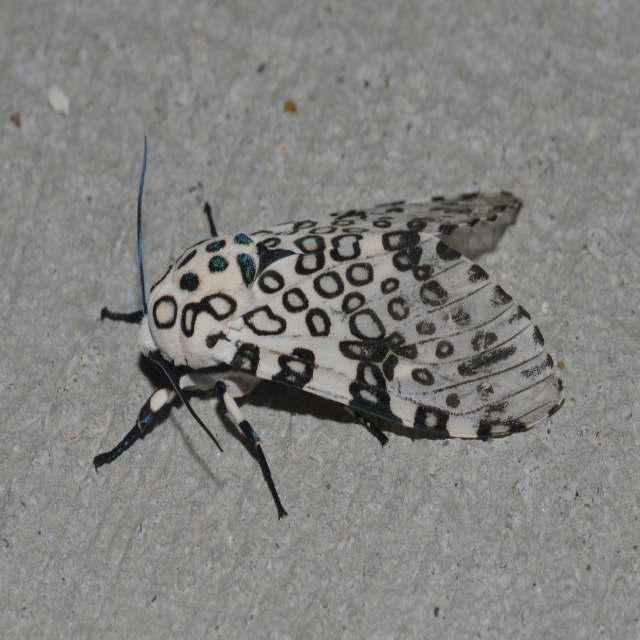Moths and butterflies: (96, 134, 563, 521)
